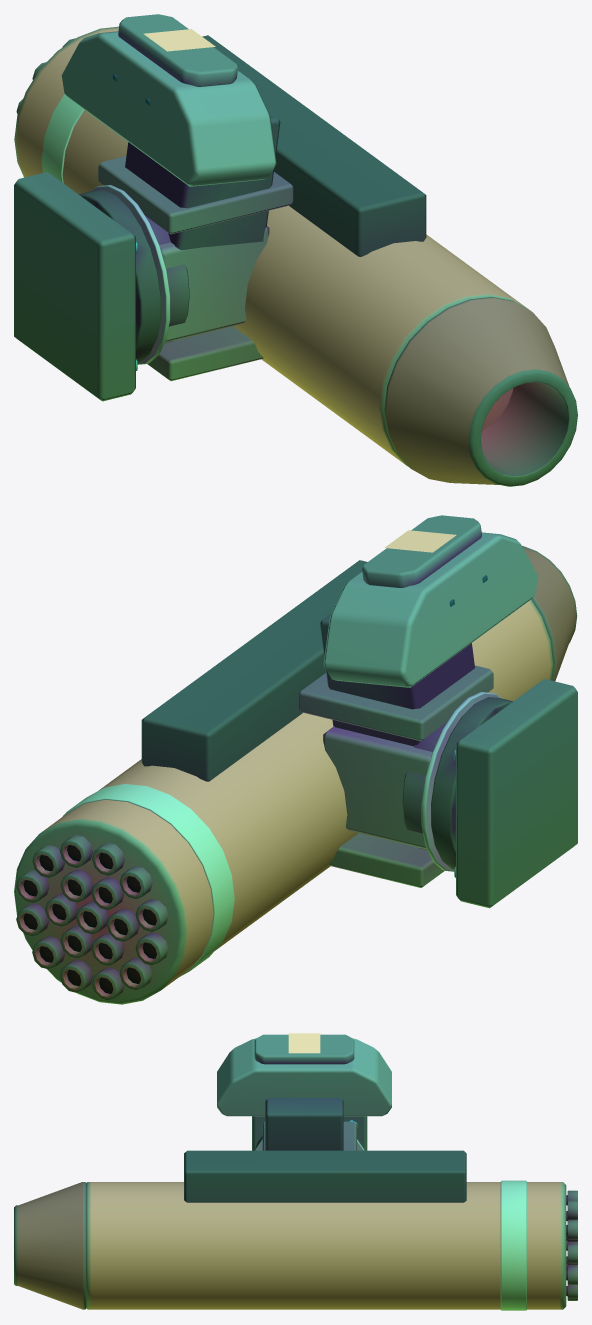
File: arm_lau61.glb
The picture shows the model from 3 angles, top to bottom: view 1: azimuth 30°, elevation 25°; view 2: azimuth 150°, elevation 25°; view 3: azimuth 270°, elevation 25°; orthographic projection. The views are drawn at different scales.
Parts seen in each view (by area): view 1: Body__armor, Body__gunmetal, Body__dark, Body__armor_sub, Body__chrome, Body__hazard, Body__decal; view 2: Body__armor, Body__gunmetal, Body__dark, Body__armor_sub, Body__hazard, Body__bore, Body__chrome, Body__decal; view 3: Body__armor, Body__dark, Body__gunmetal, Body__hazard, Body__armor_sub, Body__decal.
Part boxes in pixels (box(x1,y1,x2,y2)): Body__armor: box(14, 26, 528, 466); Body__gunmetal: box(14, 38, 577, 486); Body__dark: box(79, 35, 426, 362); Body__armor_sub: box(98, 14, 293, 381); Body__chrome: box(91, 185, 170, 370); Body__hazard: box(41, 94, 84, 183); Body__decal: box(143, 29, 215, 51); Body__armor: box(14, 532, 553, 1004); Body__gunmetal: box(16, 546, 577, 1000); Body__dark: box(141, 560, 512, 869); Body__armor_sub: box(298, 515, 493, 887); Body__hazard: box(62, 784, 234, 976); Body__bore: box(23, 845, 156, 993); Body__chrome: box(421, 692, 500, 877); Body__decal: box(384, 530, 456, 552); Body__armor: box(86, 1038, 566, 1309); Body__dark: box(184, 1098, 466, 1202); Body__gunmetal: box(14, 1116, 577, 1309); Body__hazard: box(500, 1180, 526, 1310); Body__armor_sub: box(254, 1034, 356, 1150); Body__decal: box(288, 1033, 320, 1053).
Size of the model in its own units: 0.935 by 0.9512 by 2.15.
